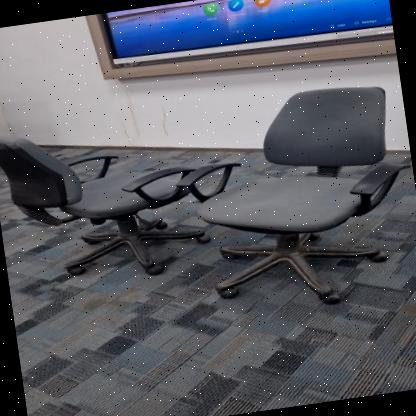chair: (168, 66, 416, 324), (0, 94, 217, 301)
